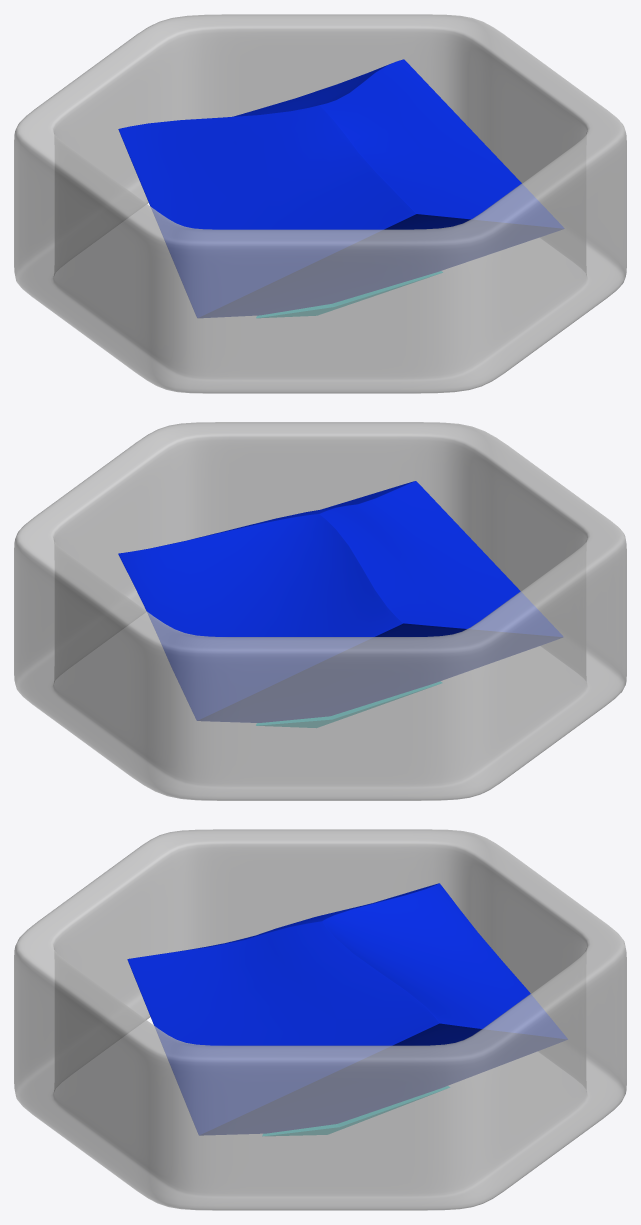
3 views of the same model, one above another, from view 1: azimuth 30°, elevation 25°; view 2: azimuth 150°, elevation 25°; view 3: azimuth 270°, elevation 25° (orthographic).
Visible parts, largest first — view 1: pCylinder1.002, pCube3.002, pCube2.002; view 2: pCylinder1.002, pCube3.002, pCube2.002; view 3: pCylinder1.002, pCube3.002, pCube2.002.
Part boxes in pixels (<box>): pCylinder1.002: <box>14,14,626,393</box>; pCube3.002: <box>118,59,563,317</box>; pCube2.002: <box>256,271,442,317</box>; pCylinder1.002: <box>14,422,626,800</box>; pCube3.002: <box>118,481,562,722</box>; pCube2.002: <box>256,681,441,727</box>; pCylinder1.002: <box>14,829,626,1210</box>; pCube3.002: <box>127,883,567,1135</box>; pCube2.002: <box>263,1086,449,1135</box>.
Size of the model in its own units: 0.0279 by 0.0119 by 0.0311.
